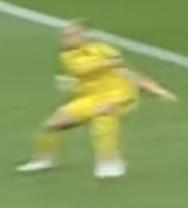goalkeeper: (7, 5, 180, 197)
